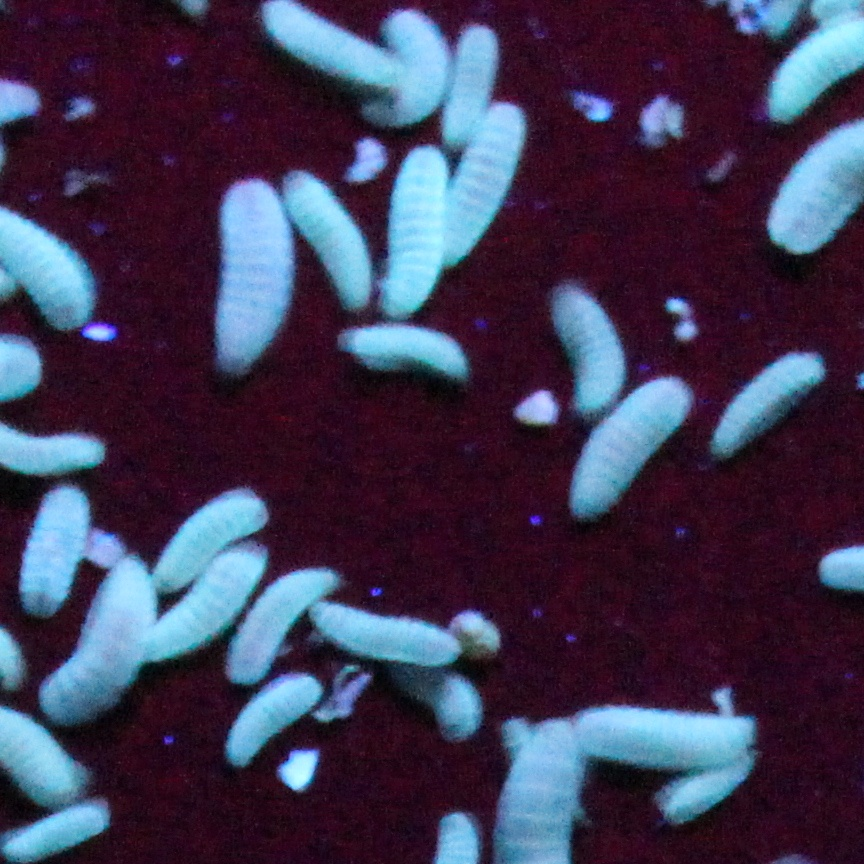larve: (562, 376, 702, 512), (209, 178, 282, 372), (270, 12, 402, 108), (712, 352, 826, 458), (138, 484, 270, 572), (58, 564, 122, 744), (534, 288, 622, 416), (154, 568, 266, 664), (574, 712, 750, 768), (322, 604, 454, 672), (336, 320, 468, 384), (298, 180, 366, 304), (10, 500, 86, 608), (462, 108, 518, 252), (254, 668, 314, 768), (658, 772, 754, 832), (414, 144, 442, 312), (466, 32, 486, 140)
